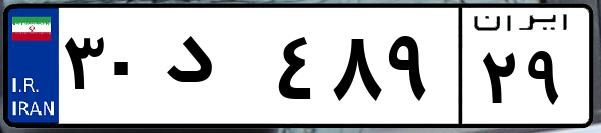0: (110, 28, 158, 98)
2: (475, 38, 525, 113)
3: (57, 26, 110, 100)
4: (270, 28, 330, 110)
8: (330, 28, 385, 110)
9: (385, 28, 445, 110), (525, 38, 570, 115)
د: (158, 20, 270, 120)
